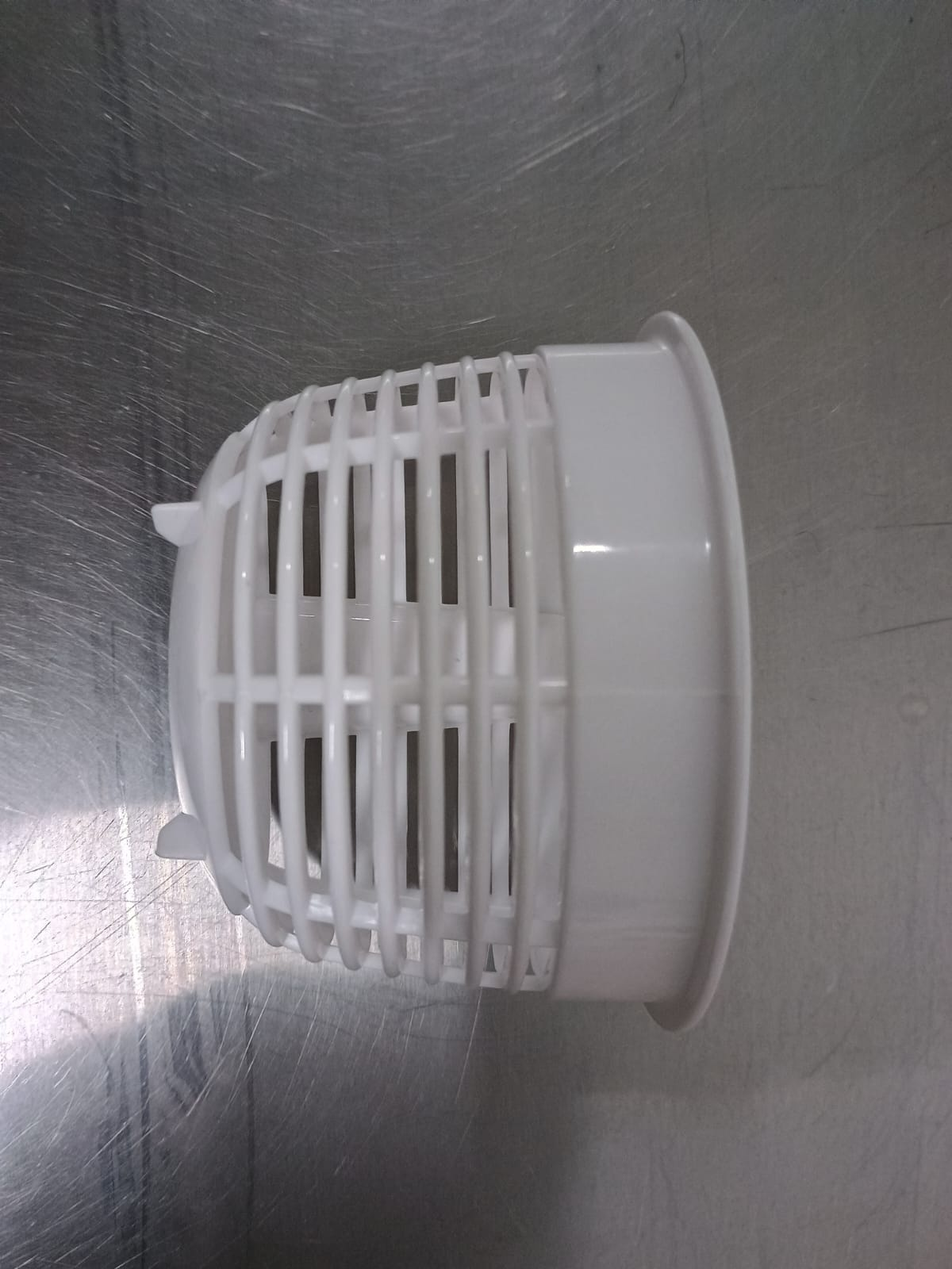Plastico: (149, 310, 754, 1030)
